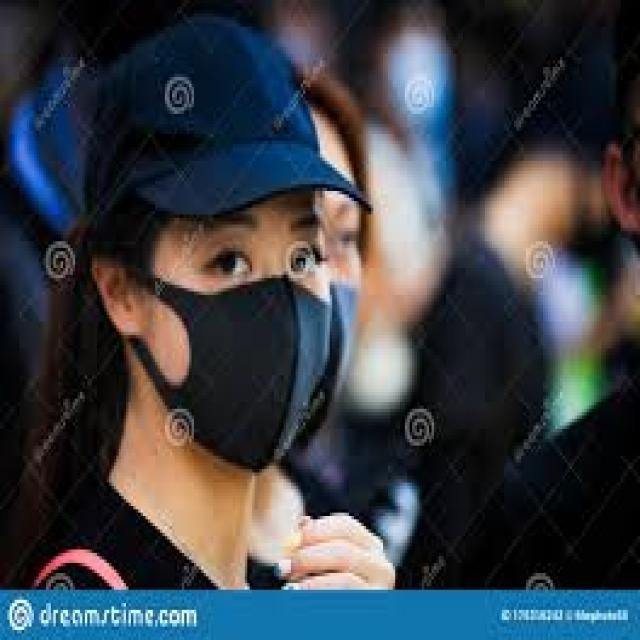3_gorra: (81, 15, 375, 240)
